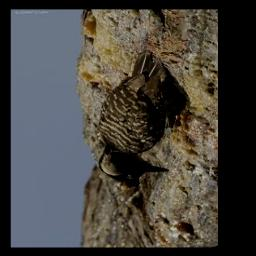Woodpecker: (97, 48, 188, 183)
